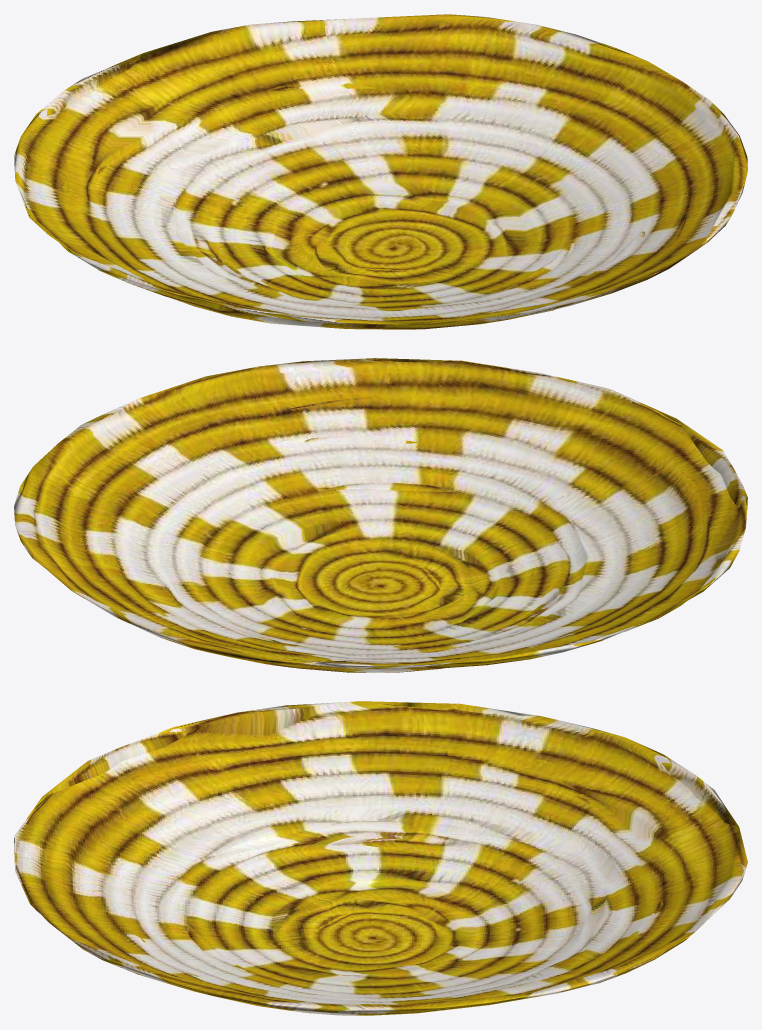
The model's file is Golden Concentric Dash Weave.fbx.
3 views of the same model, one above another, from view 1: azimuth 30°, elevation 25°; view 2: azimuth 150°, elevation 25°; view 3: azimuth 270°, elevation 25° (orthographic).
Parts seen in each view (by area): view 1: Golden Concentric Dash Weave; view 2: Golden Concentric Dash Weave; view 3: Golden Concentric Dash Weave.
Boxes of the visible parts, left/top/right/bottom form: Golden Concentric Dash Weave: left=14, top=14, right=747, bottom=329; Golden Concentric Dash Weave: left=14, top=358, right=747, bottom=672; Golden Concentric Dash Weave: left=14, top=701, right=747, bottom=1015.
Size of the model in its own units: 37.99 by 4.97 by 38.16.
Materials: 1 (1 with a texture image).
